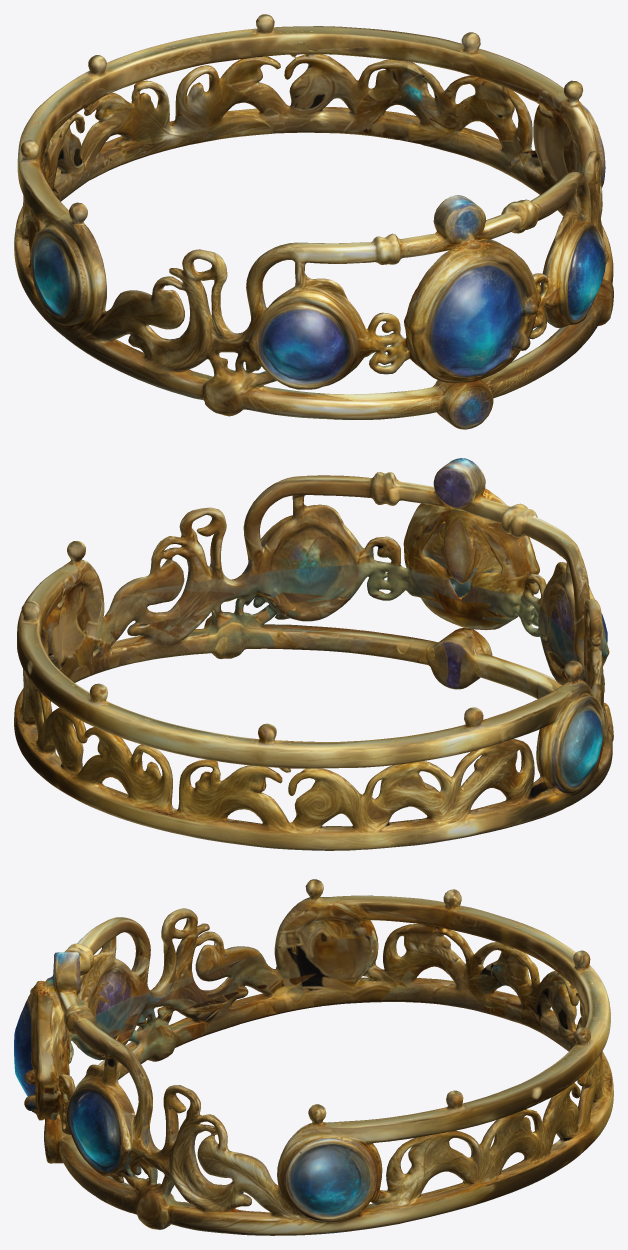
File: braclet.glb
3 views of the same model, one above another, from view 1: azimuth 30°, elevation 25°; view 2: azimuth 150°, elevation 25°; view 3: azimuth 270°, elevation 25° (orthographic). The views are drawn at different scales.
Parts seen in each view (by area): view 1: Mesh_0_Material_0_0; view 2: Mesh_0_Material_0_0; view 3: Mesh_0_Material_0_0.
Part boxes in pixels (left/top/right/bottom): Mesh_0_Material_0_0: left=14, top=14, right=613, bottom=429; Mesh_0_Material_0_0: left=14, top=458, right=613, bottom=850; Mesh_0_Material_0_0: left=14, top=879, right=613, bottom=1235.
Bounding box in the file's own units: 1.95 × 0.7611 × 2.
1 material, 1 textured.
